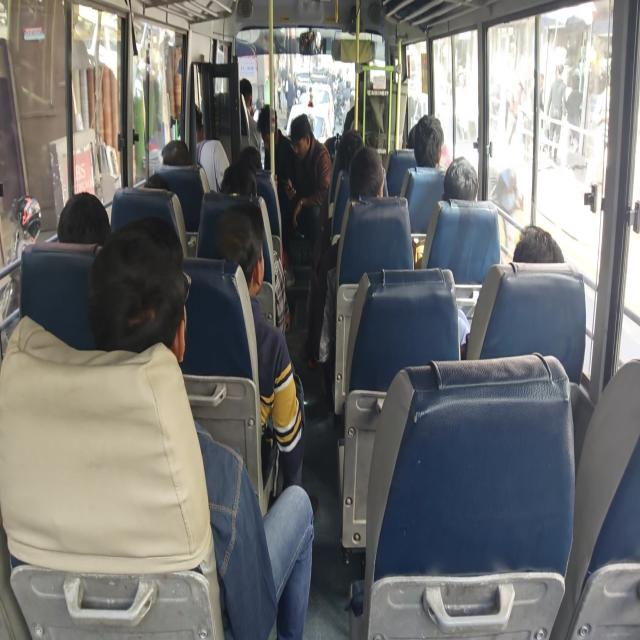person: (87, 214, 315, 638), (211, 203, 306, 503), (302, 146, 388, 368), (458, 224, 565, 358), (220, 158, 290, 334), (282, 113, 332, 285), (1, 195, 42, 350), (256, 104, 300, 199), (193, 104, 230, 192), (57, 191, 111, 245), (512, 224, 564, 264), (545, 63, 566, 162), (411, 114, 446, 170), (240, 77, 262, 155), (442, 156, 479, 201), (490, 167, 523, 214), (566, 71, 582, 152), (160, 139, 192, 166)
